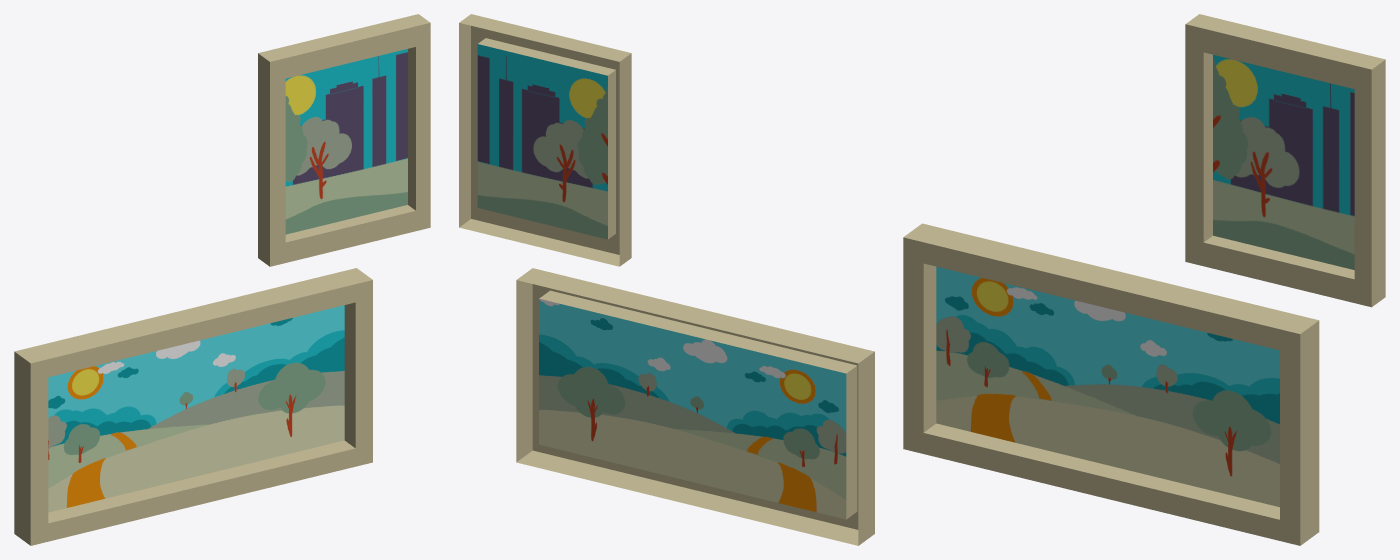
Rendered from cuadros final.fbx.
3 views of the same model, side by side, from view 1: azimuth 30°, elevation 25°; view 2: azimuth 150°, elevation 25°; view 3: azimuth 330°, elevation 25° (orthographic). The views are drawn at different scales.
Parts seen in each view (by area): view 1: Cuadro, Cuadro.001; view 2: Cuadro, Cuadro.001; view 3: Cuadro, Cuadro.001.
Part boxes in pixels (x1,y1,x2,y2): Cuadro: (14,268,372,545); Cuadro.001: (258,14,430,266); Cuadro: (516,268,874,545); Cuadro.001: (459,14,631,266); Cuadro: (903,223,1319,545); Cuadro.001: (1185,14,1385,307).
Size of the model in its own units: 308 by 310 by 21.73.
